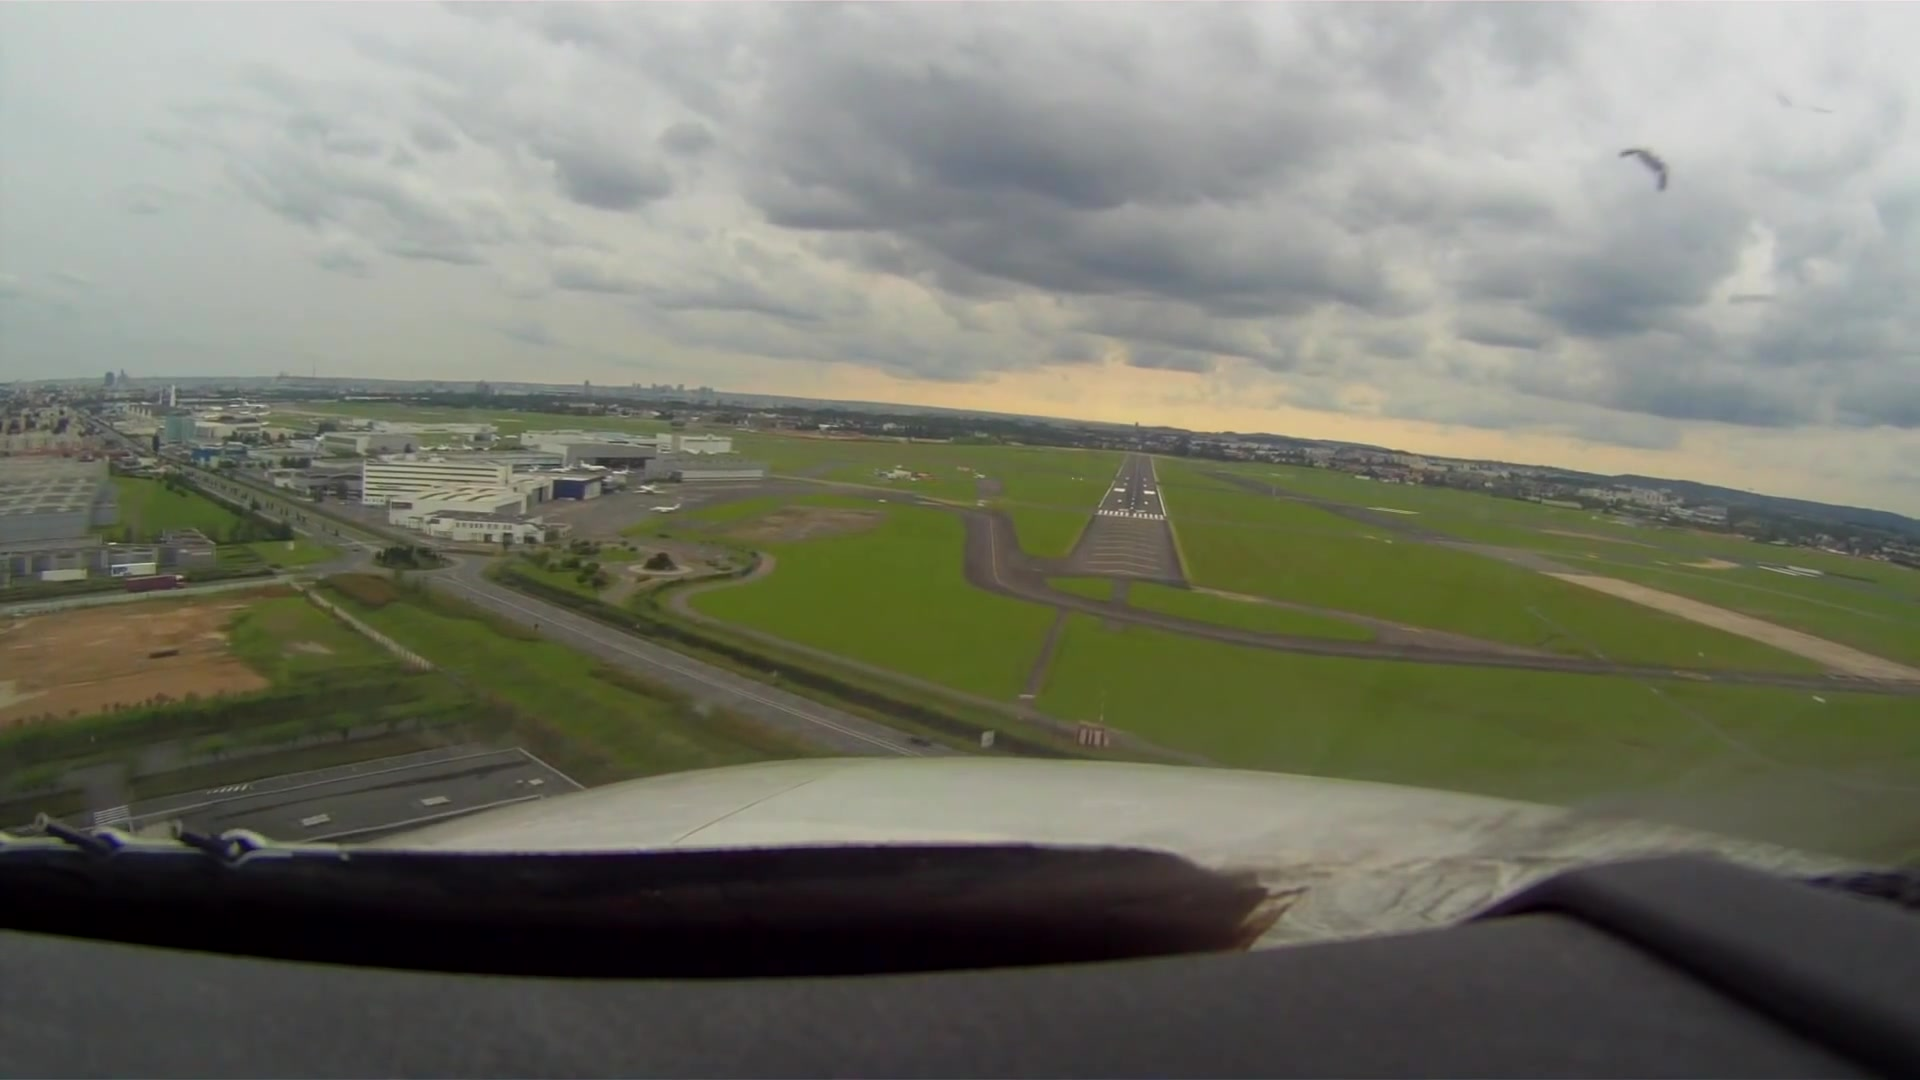entrance: (1097, 508, 1163, 520)
runway: (1091, 455, 1164, 522)
